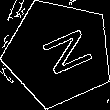N_SW: (27, 25, 91, 82)
